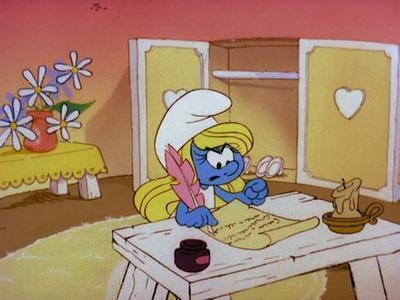smurf: (144, 85, 278, 229)
